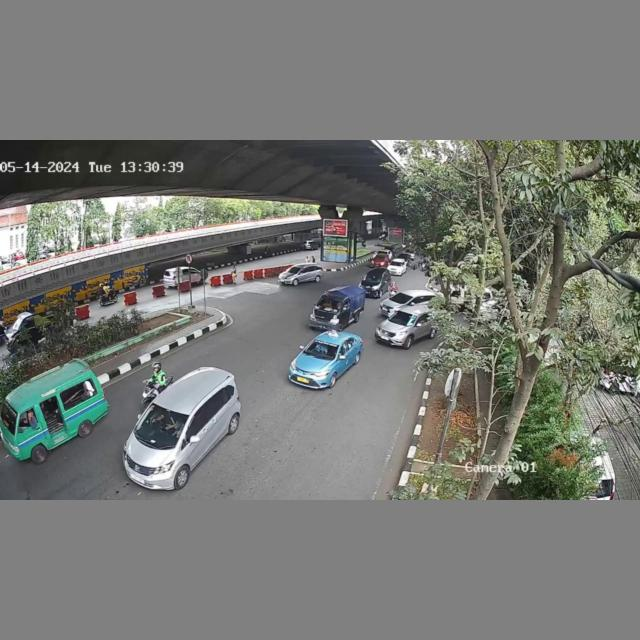windshield: (137, 403, 189, 446), (304, 339, 339, 363), (315, 298, 343, 313)
